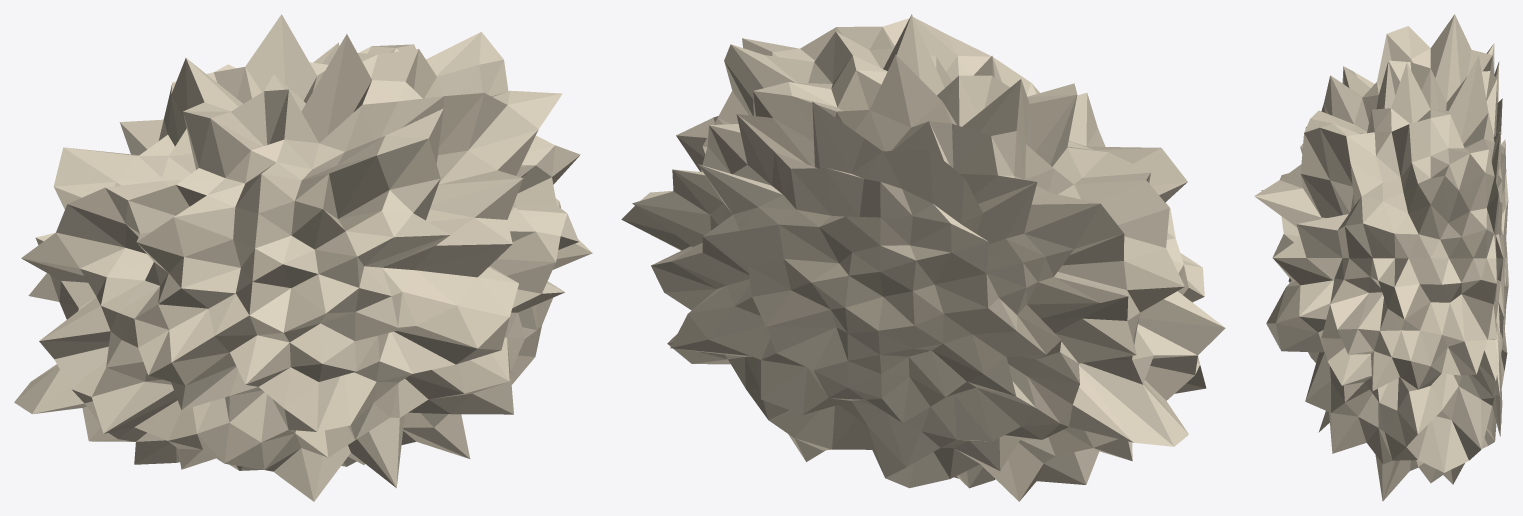
File: Akariz_Rock_Pale_Limestone.glb
3 views of the same model, side by side, from view 1: azimuth 30°, elevation 25°; view 2: azimuth 150°, elevation 25°; view 3: azimuth 270°, elevation 25° (orthographic). The views are drawn at different scales.
Visible parts, largest first — view 1: Akariz_Rock_Pale_Limestone; view 2: Akariz_Rock_Pale_Limestone; view 3: Akariz_Rock_Pale_Limestone.
Part boxes in pixels (<box>): Akariz_Rock_Pale_Limestone: <box>14,14,592,501</box>; Akariz_Rock_Pale_Limestone: <box>621,14,1225,501</box>; Akariz_Rock_Pale_Limestone: <box>1254,14,1508,501</box>.
Size of the model in its own units: 2.83 by 2.18 by 1.27.
